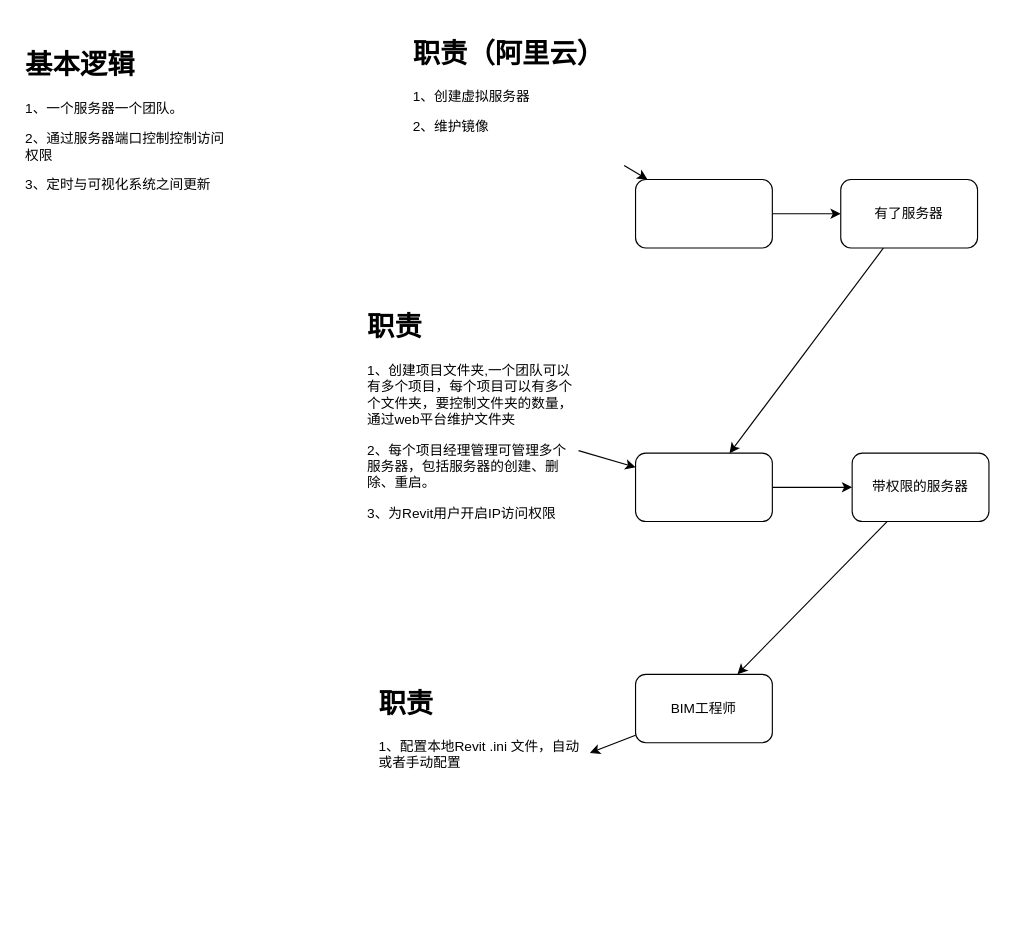
Image size: 1009x928. Some labels were removed from this diagram. Each missing label, with the centre of its shape:
BIM项目经理: the point at 703,487
平台运维: the point at 703,213
